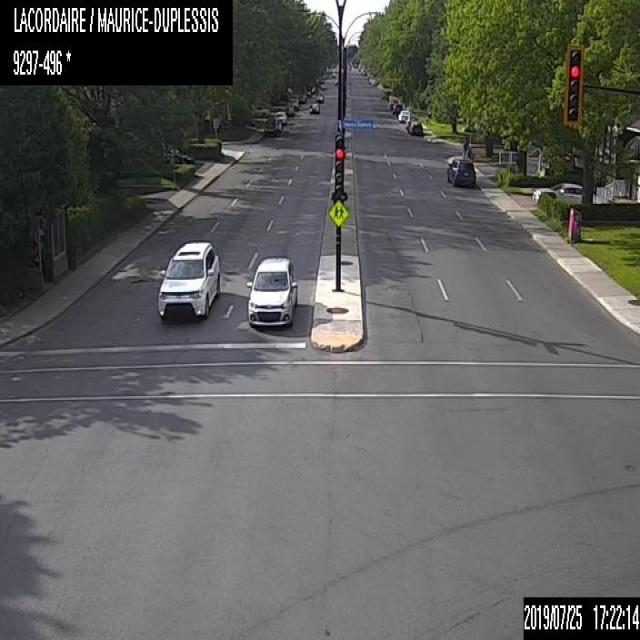pedestrian: (462, 136, 467, 160)
vehicle: (160, 243, 220, 320), (245, 253, 298, 327), (532, 182, 595, 206), (447, 153, 476, 188), (164, 147, 194, 164), (265, 116, 280, 136), (408, 119, 422, 136), (253, 104, 270, 117), (273, 110, 287, 125), (391, 102, 404, 115), (387, 95, 399, 108), (397, 110, 410, 122), (285, 102, 295, 115), (308, 100, 318, 112), (289, 96, 297, 109), (315, 92, 324, 103), (298, 93, 306, 101), (304, 87, 310, 96), (318, 83, 326, 89), (330, 72, 336, 78), (368, 76, 373, 83), (371, 78, 376, 85), (333, 77, 338, 83)
